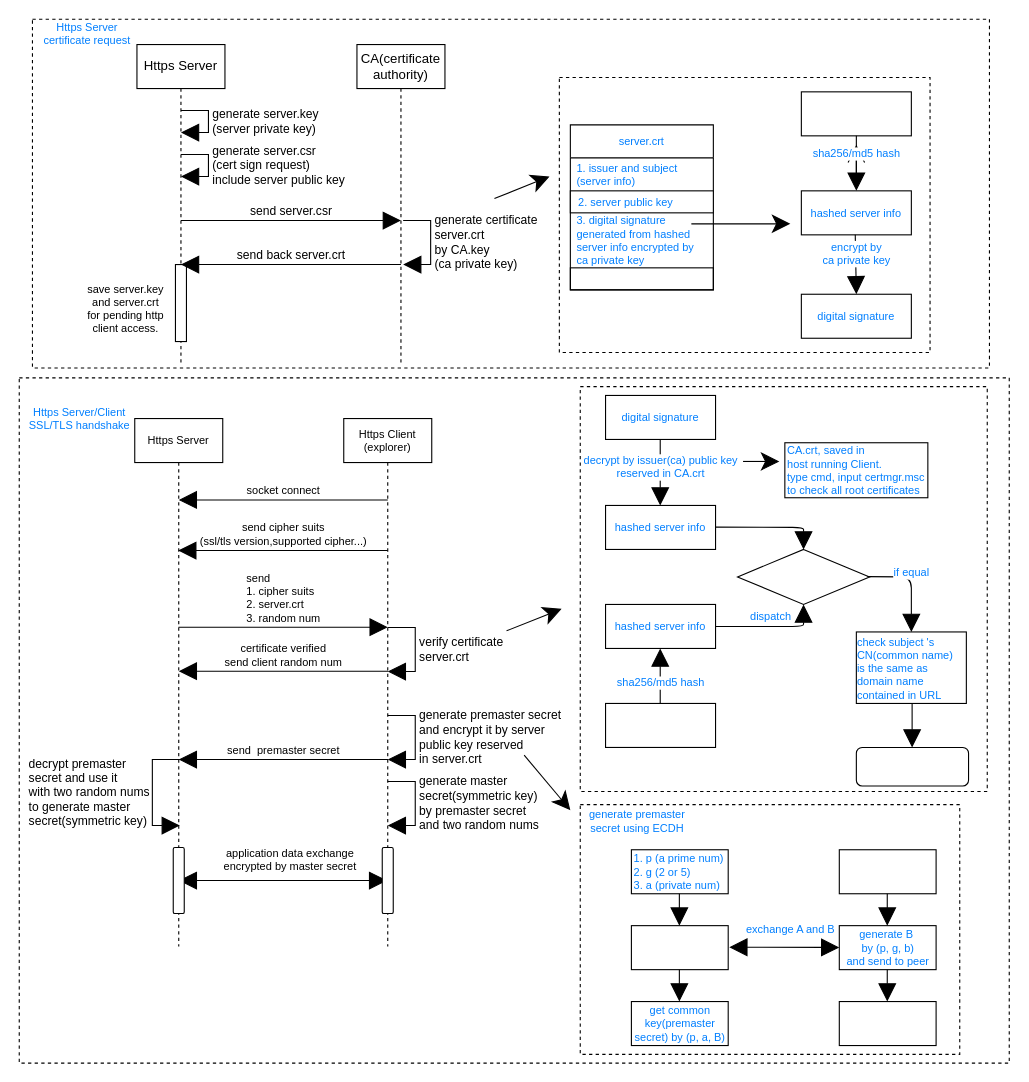
Image size: 1029x1082. Some labels were removed from this diagram. The shapes that lost their labels are listed below. From the top down, each one's centre as x and y in pixels, then its label:
point 855,113: issuer and subject (server info)
point 641,278: 4. cipher set (sha256rsa)
point 803,576: compare both of them
point 660,724: issuer and subject included in server.crt
point 912,766: verify certificate fin
point 887,871: 1. p (a prime num) 2. g (2 or 5) 3. b (private num)
point 679,947: generate A by (p, g, a) and send to peer
point 887,1023: get common key(premaster secret) by (p, b, A)
